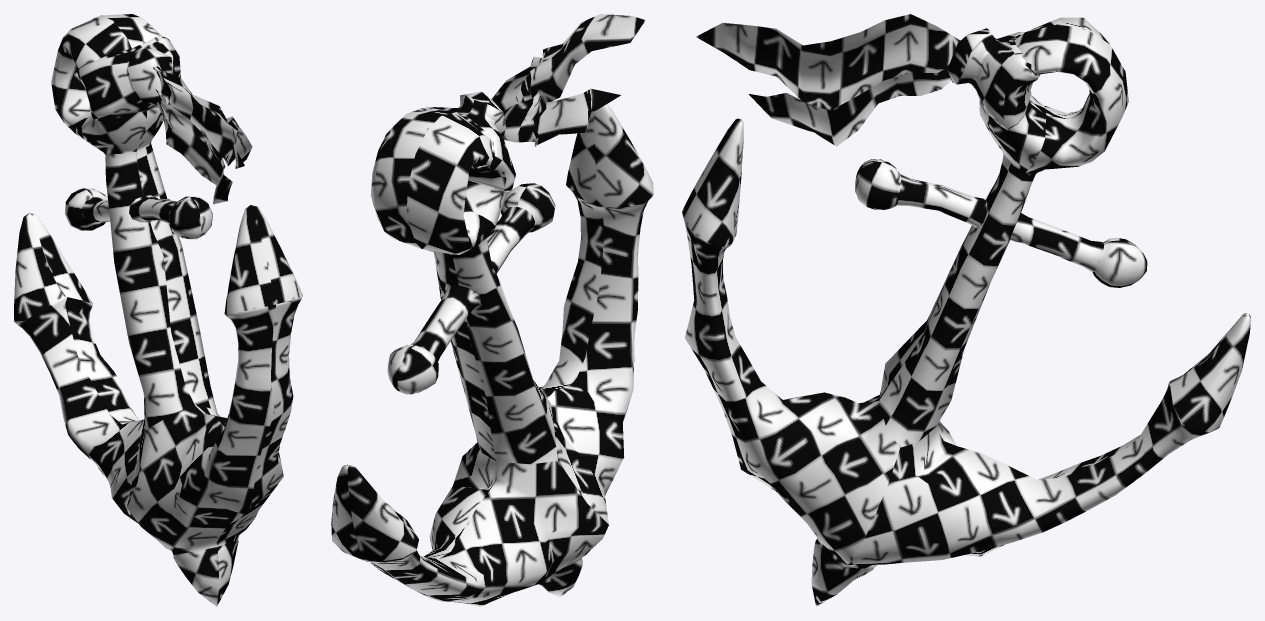
Rendered from 05_checkpoint2_obj.fbx.
The picture shows the model from 3 angles, left to right: view 1: azimuth 30°, elevation 25°; view 2: azimuth 150°, elevation 25°; view 3: azimuth 270°, elevation 25°; orthographic projection. The views are drawn at different scales.
Visible parts, largest first — view 1: _05_checkpoint_obj; view 2: _05_checkpoint_obj; view 3: _05_checkpoint_obj.
Part boxes in pixels (x1,y1,x2,y2): _05_checkpoint_obj: (14, 14, 302, 606); _05_checkpoint_obj: (331, 14, 653, 606); _05_checkpoint_obj: (682, 14, 1250, 606).
Size of the model in its own units: 10.71 by 39.92 by 35.2.
1 material, 1 textured.
